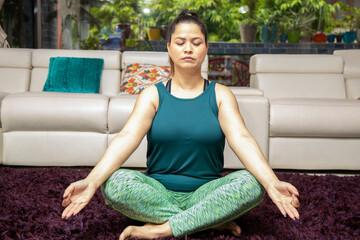Human: (66, 4, 320, 229)
